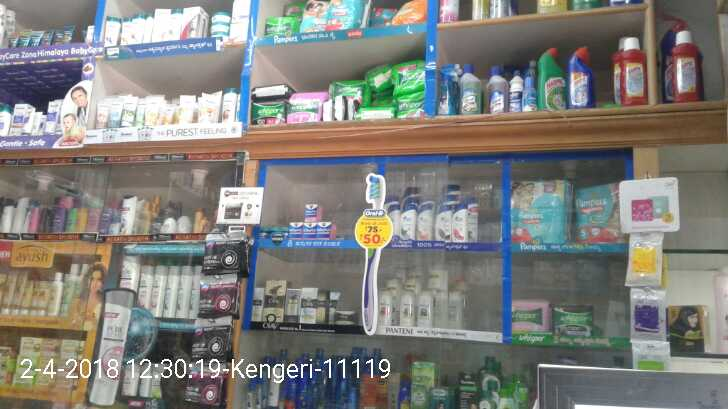vicks: (316, 221, 335, 240), (288, 223, 304, 240), (304, 205, 319, 222), (304, 223, 316, 240)
